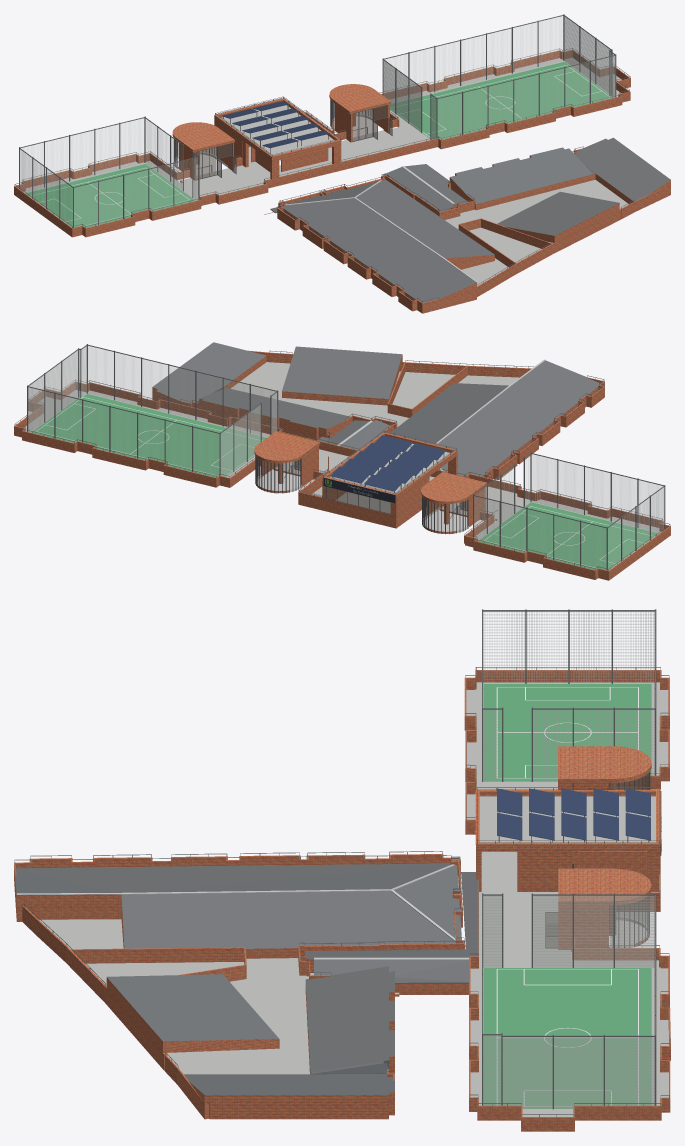
The model's file is floor-6.glb.
3 renders of one model, top to bottom at view 1: azimuth 30°, elevation 25°; view 2: azimuth 150°, elevation 25°; view 3: azimuth 270°, elevation 25°, orthographic. The views are drawn at different scales.
Parts seen in each view (by area): view 1: P6_A_Canchas, P6_B_Tejados, P6_Cubierta, P6_Bordillo_A, P6_Bordillo_B, P6_A_Nucleo, P6_Fachada_Compartida, P6_Barandas_Bajas, P6_A_Escaleras_Acceso; view 2: P6_A_Canchas, P6_B_Tejados, P6_Cubierta, P6_Fachada_Compartida, P6_Bordillo_A, P6_A_Nucleo, P6_Bordillo_B, P6_Barandas_Bajas, P6_A_Escaleras_Acceso; view 3: P6_B_Tejados, P6_A_Canchas, P6_Cubierta, P6_A_Nucleo, P6_Bordillo_B, P6_Bordillo_A, P6_Fachada_Compartida, P6_Barandas_Bajas, P6_A_Escaleras_Acceso.
Boxes of the visible parts, x1=… form: P6_A_Canchas: x1=19, y1=14, x2=616, y2=227; P6_B_Tejados: x1=283, y1=137, x2=670, y2=302; P6_Cubierta: x1=14, y1=58, x2=670, y2=313; P6_Bordillo_A: x1=14, y1=50, x2=630, y2=235; P6_Bordillo_B: x1=277, y1=148, x2=670, y2=312; P6_A_Nucleo: x1=214, y1=96, x2=437, y2=214; P6_Fachada_Compartida: x1=172, y1=84, x2=392, y2=180; P6_Barandas_Bajas: x1=14, y1=48, x2=634, y2=302; P6_A_Escaleras_Acceso: x1=179, y1=103, x2=389, y2=180; P6_A_Canchas: x1=27, y1=344, x2=665, y2=570; P6_B_Tejados: x1=152, y1=342, x2=600, y2=477; P6_Cubierta: x1=14, y1=362, x2=670, y2=580; P6_Fachada_Compartida: x1=254, y1=431, x2=487, y2=534; P6_Bordillo_A: x1=14, y1=381, x2=670, y2=578; P6_A_Nucleo: x1=279, y1=430, x2=464, y2=503; P6_Bordillo_B: x1=152, y1=350, x2=604, y2=478; P6_Barandas_Bajas: x1=14, y1=350, x2=670, y2=570; P6_A_Escaleras_Acceso: x1=260, y1=446, x2=485, y2=526; P6_B_Tejados: x1=15, y1=863, x2=477, y2=1103; P6_A_Canchas: x1=482, y1=609, x2=656, y2=1109; P6_Cubierta: x1=14, y1=682, x2=670, y2=1131; P6_A_Nucleo: x1=475, y1=787, x2=661, y2=956; P6_Bordillo_B: x1=14, y1=854, x2=465, y2=1116; P6_Bordillo_A: x1=464, y1=670, x2=670, y2=1129; P6_Fachada_Compartida: x1=545, y1=746, x2=660, y2=948; P6_Barandas_Bajas: x1=14, y1=667, x2=670, y2=1117; P6_A_Escaleras_Acceso: x1=558, y1=783, x2=615, y2=949.
Bounding box in the file's own units: 79.03 × 9.63 × 49.01.
18 materials, 2 textured.
